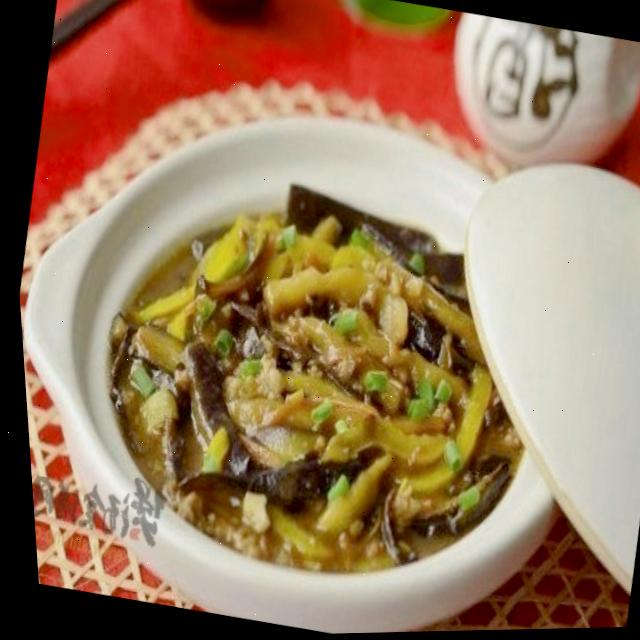鸡蛋料理: (1, 1, 640, 640)
